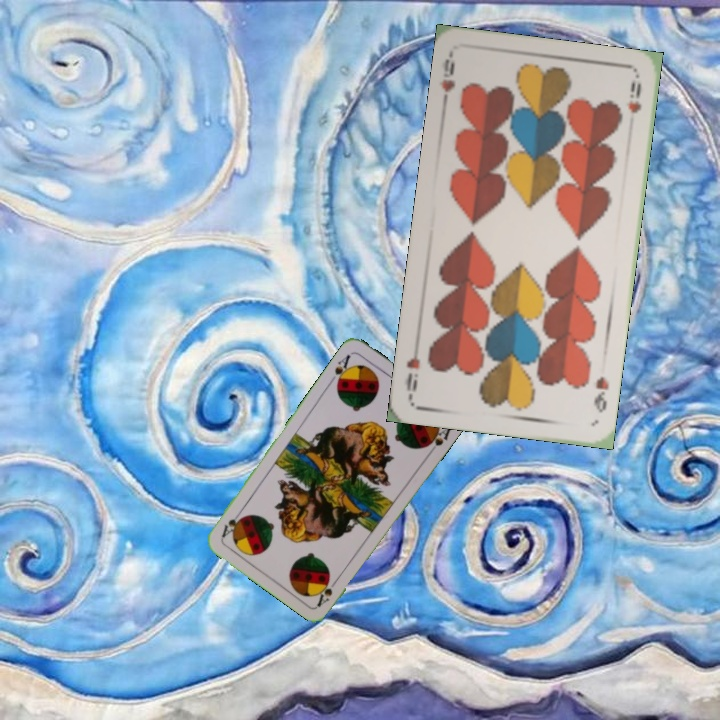H9: (436, 50, 458, 110), (590, 372, 612, 416)
SA: (326, 350, 355, 389), (313, 573, 342, 609)
